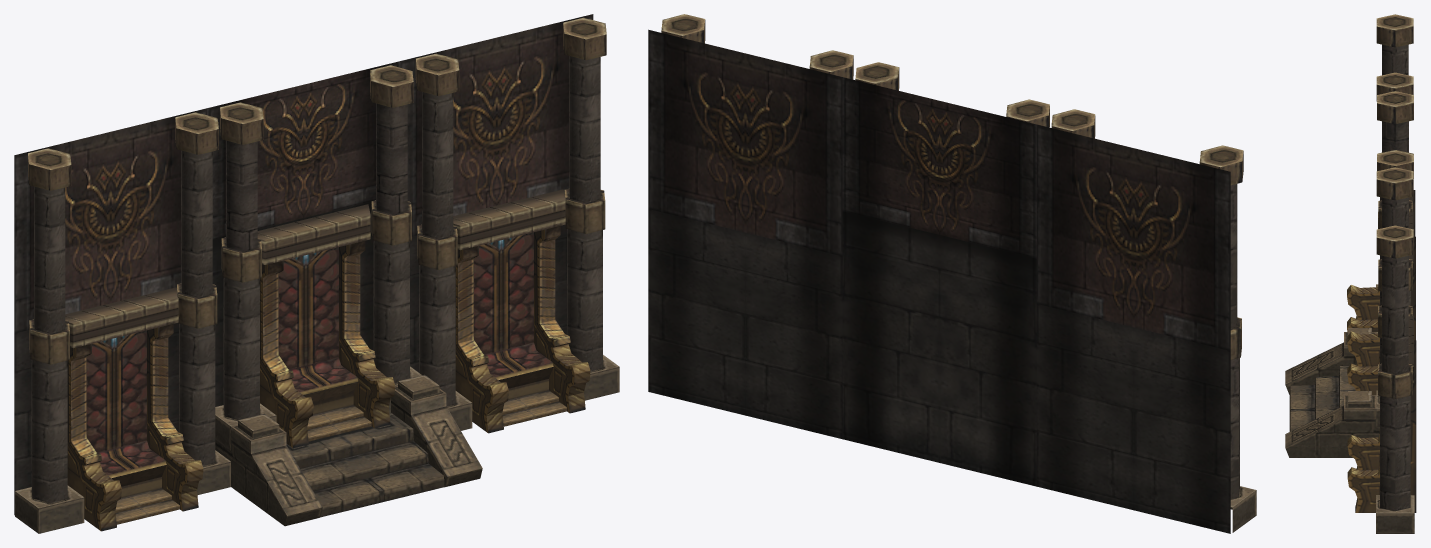
3 renders of one model, left to right at view 1: azimuth 30°, elevation 25°; view 2: azimuth 150°, elevation 25°; view 3: azimuth 270°, elevation 25°, orthographic. The views are drawn at different scales.
Parts seen in each view (by area): view 1: object159; view 2: object159; view 3: object159.
Part boxes in pixels (left/top/right/bottom): object159: left=14, top=14, right=619, bottom=533; object159: left=648, top=14, right=1256, bottom=533; object159: left=1285, top=14, right=1416, bottom=533.
Size of the model in its own units: 1116 by 662 by 270.
